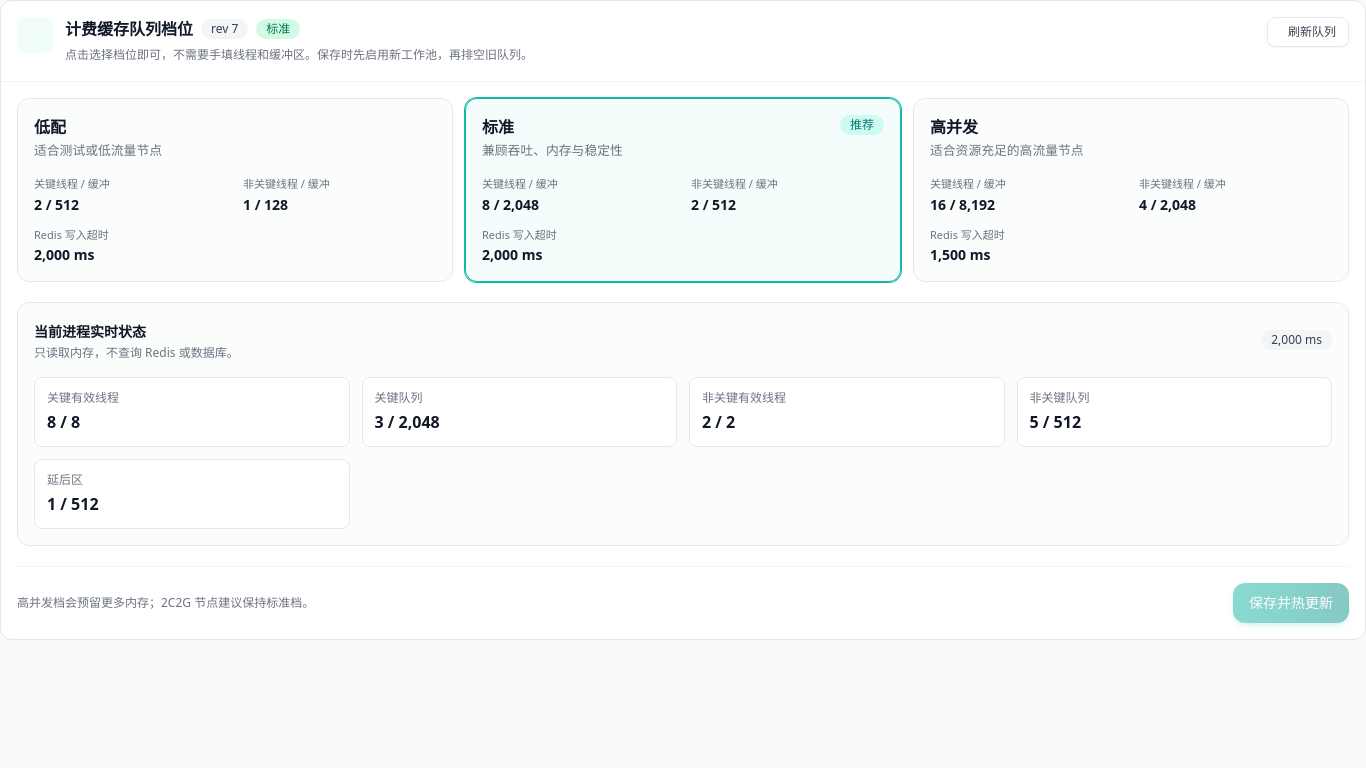
Test: BillingCacheRuntimeCard › 用当前修订号切换预设且不提交数值覆盖
This screenshot has width=1366, height=768.
Click the button that starts with "高并发": (954, 127) [913, 98, 1349, 282]
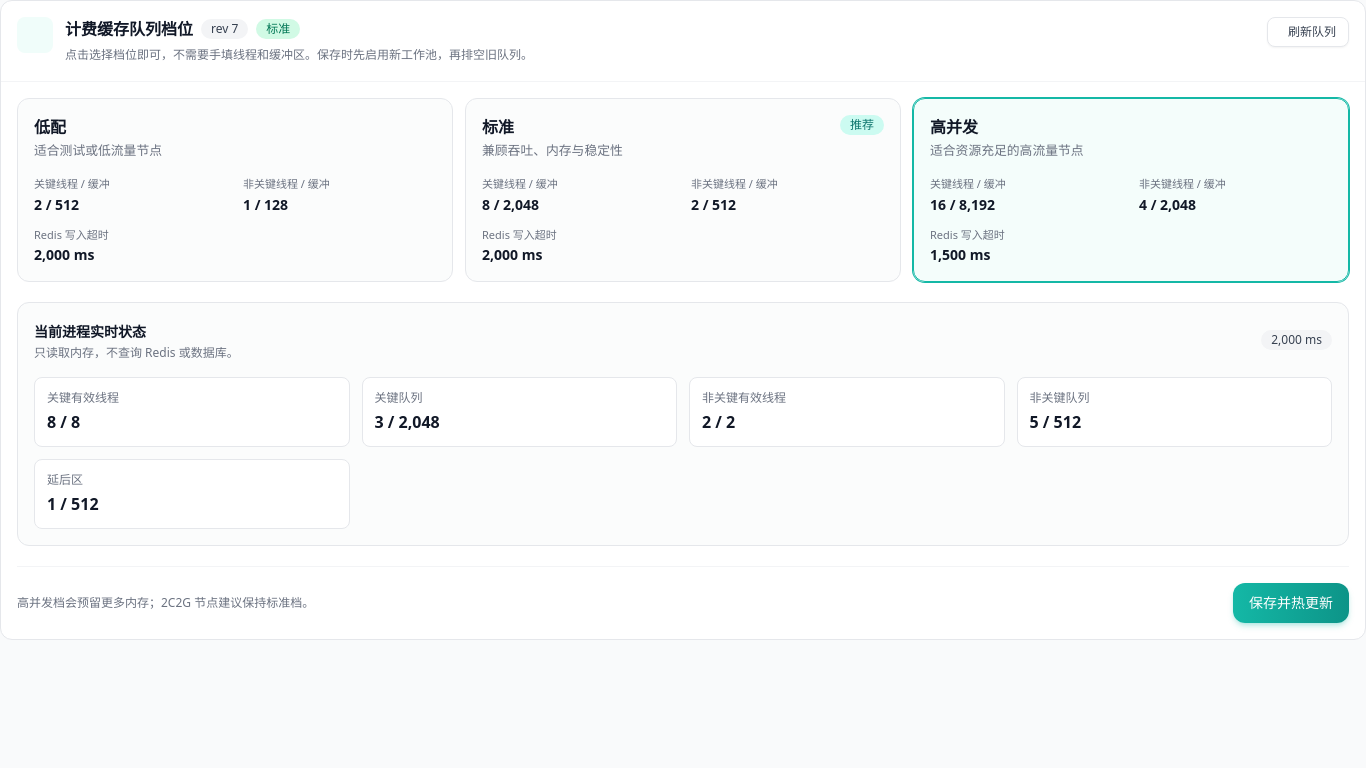
Click the button "保存并热更新": (1291, 603) [1233, 583, 1349, 623]
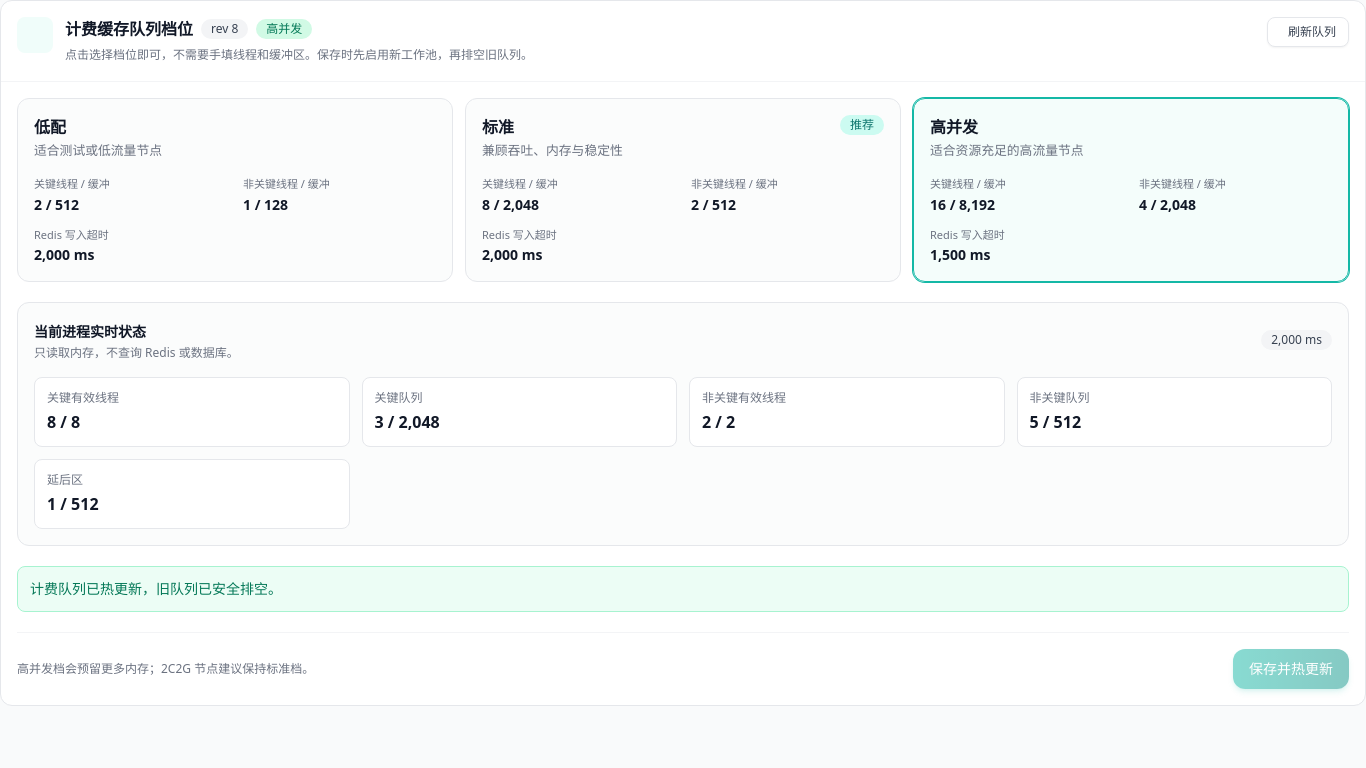
Expected: the text "旧队列已安全排空" is shown, [30, 579, 282, 598]
Expected: the text "rev 8" is shown, [201, 19, 248, 39]
